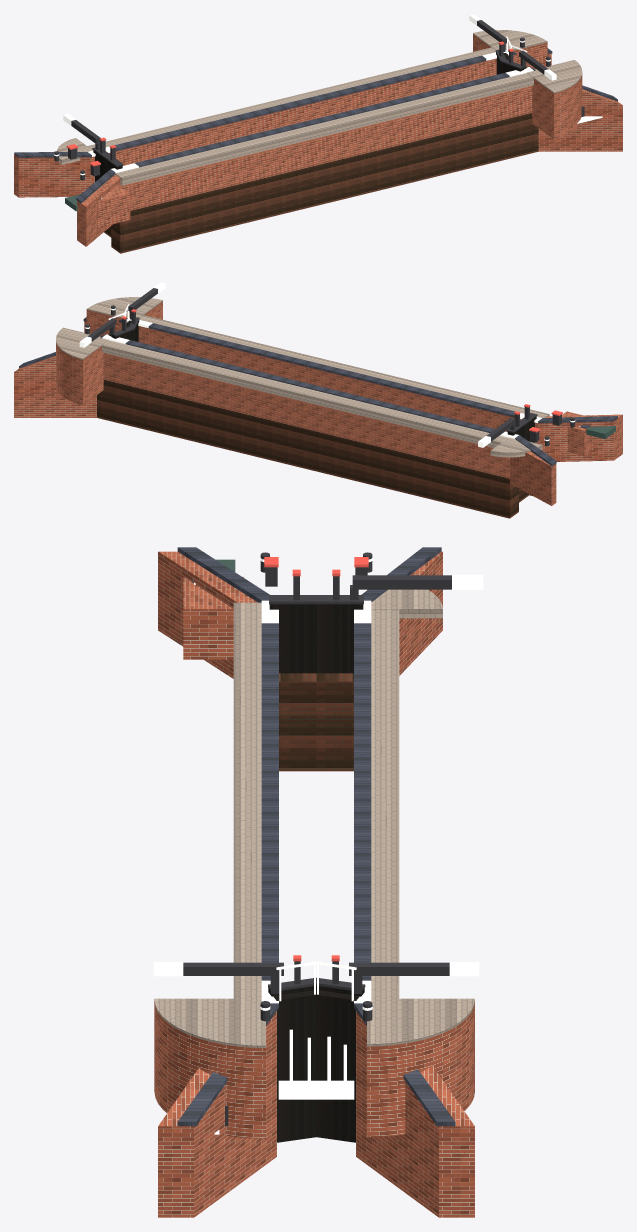
File: lock-50.glb
The picture shows the model from 3 angles, top to bottom: view 1: azimuth 30°, elevation 25°; view 2: azimuth 150°, elevation 25°; view 3: azimuth 270°, elevation 25°; orthographic projection. The views are drawn at different scales.
Visible parts, largest first — view 1: Chamber, ChamberWet, Edge, Coping.001, TopGateCap, Coping, TopGate; view 2: Chamber, ChamberWet, Edge, Coping.001, TopGateCap, Coping, TopGate; view 3: Chamber, Edge, Coping.001, TopGate, TopGateCap, ChamberWet, Coping, Leak.
Boxes of the visible parts, x1,y1,x2,y2 form: Chamber: [14, 34, 622, 246]; ChamberWet: [104, 113, 538, 253]; Edge: [57, 30, 582, 185]; Coping.001: [14, 48, 617, 203]; TopGateCap: [54, 20, 584, 180]; Coping: [54, 14, 556, 175]; TopGate: [93, 53, 526, 181]; Chamber: [14, 301, 622, 505]; ChamberWet: [97, 379, 532, 518]; Edge: [56, 297, 549, 457]; Coping.001: [19, 317, 617, 466]; TopGateCap: [85, 288, 574, 446]; Coping: [79, 282, 575, 447]; TopGate: [109, 320, 536, 442]; Chamber: [154, 551, 474, 1217]; Edge: [154, 589, 474, 1047]; Coping.001: [177, 547, 455, 1126]; TopGate: [268, 604, 364, 1142]; TopGateCap: [183, 552, 451, 1126]; ChamberWet: [279, 673, 353, 771]; Coping: [153, 558, 483, 1010]; Leak: [194, 582, 354, 1134].
Bounding box in the file's own units: 34.07 × 5.78 × 9.15.
11 materials, 8 textured.
